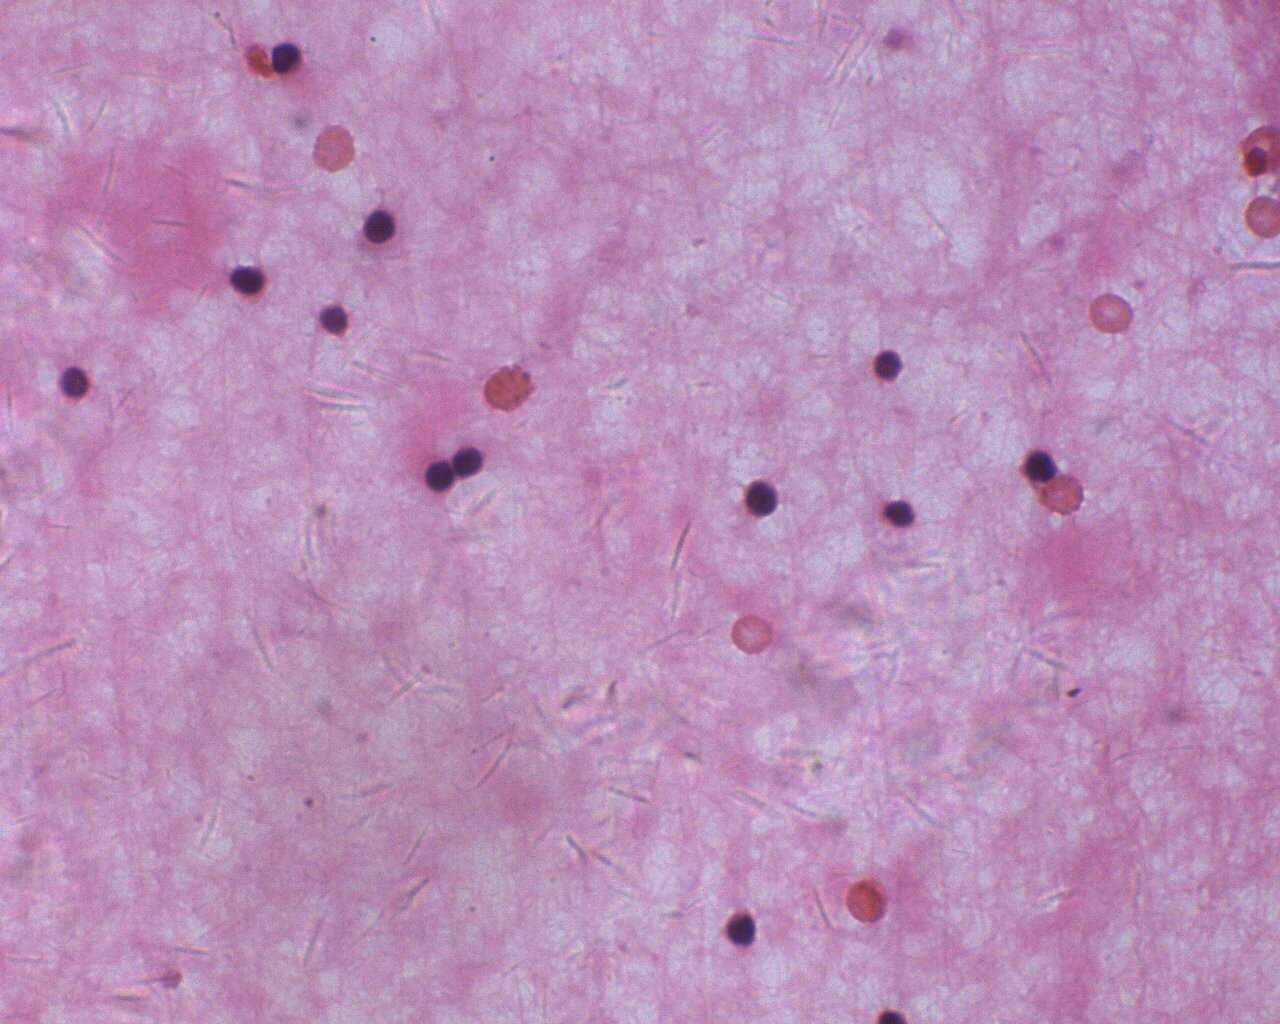lymph: (737, 475, 785, 521), (865, 343, 909, 386), (722, 907, 762, 952), (1020, 444, 1063, 485), (265, 38, 308, 77), (359, 204, 398, 248), (227, 262, 271, 298), (59, 360, 94, 404), (422, 455, 456, 495)
